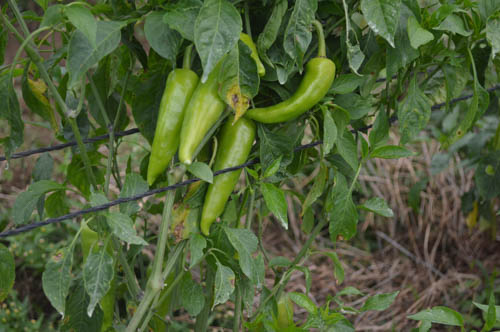ChiliPepper: (199, 120, 257, 242), (246, 62, 337, 127), (182, 52, 229, 172), (148, 71, 196, 185)
